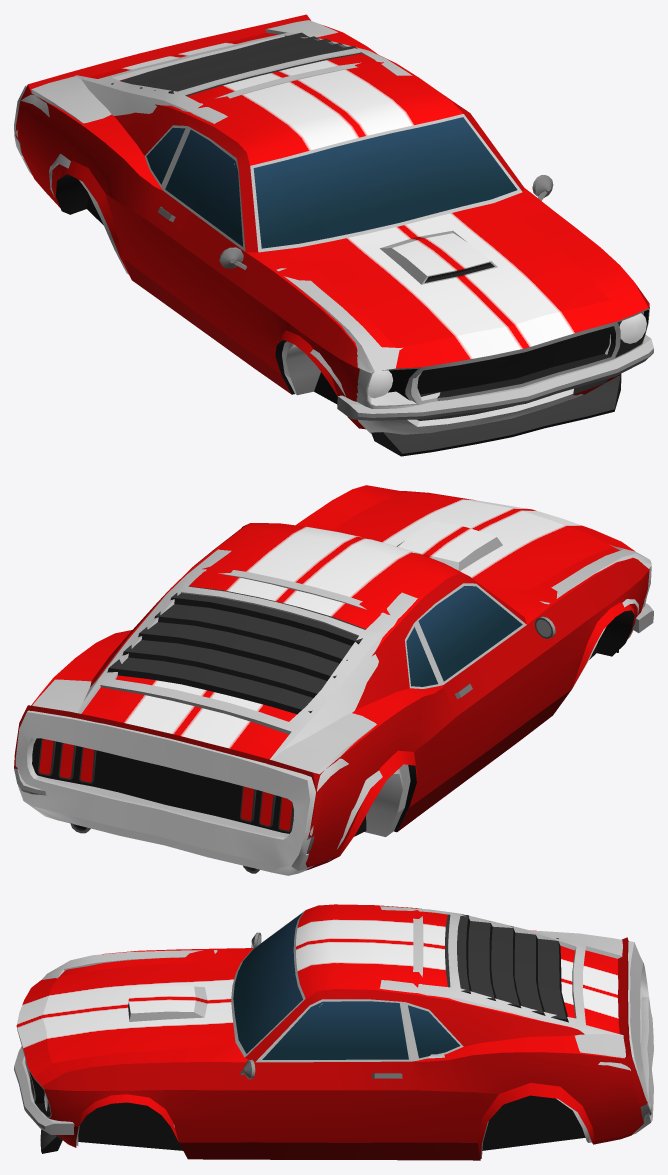
File: muscle.glb
3 views of the same model, one above another, from view 1: azimuth 30°, elevation 25°; view 2: azimuth 150°, elevation 25°; view 3: azimuth 270°, elevation 25° (orthographic). The views are drawn at different scales.
Parts seen in each view (by area): view 1: body, frame; view 2: body, frame; view 3: body, frame.
Boxes of the visible parts, x1,y1,x2,y2 form: body: (15, 14, 653, 456); frame: (14, 20, 643, 434); body: (14, 485, 653, 873); frame: (15, 544, 651, 875); body: (14, 904, 651, 1160); frame: (42, 906, 653, 1158).
Bounding box in the file's own units: 2.25 × 1.31 × 4.45.
Materials: 3 (2 with a texture image).
